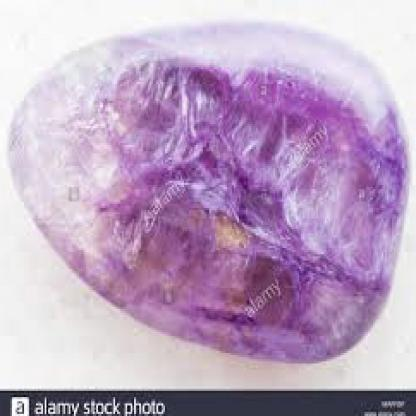Metamorphic_Marble: (3, 21, 406, 361)
